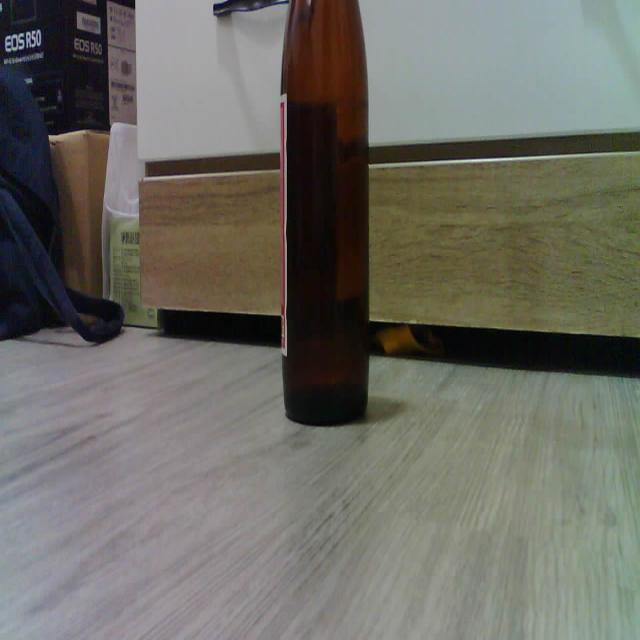bottle: (279, 0, 369, 424)
